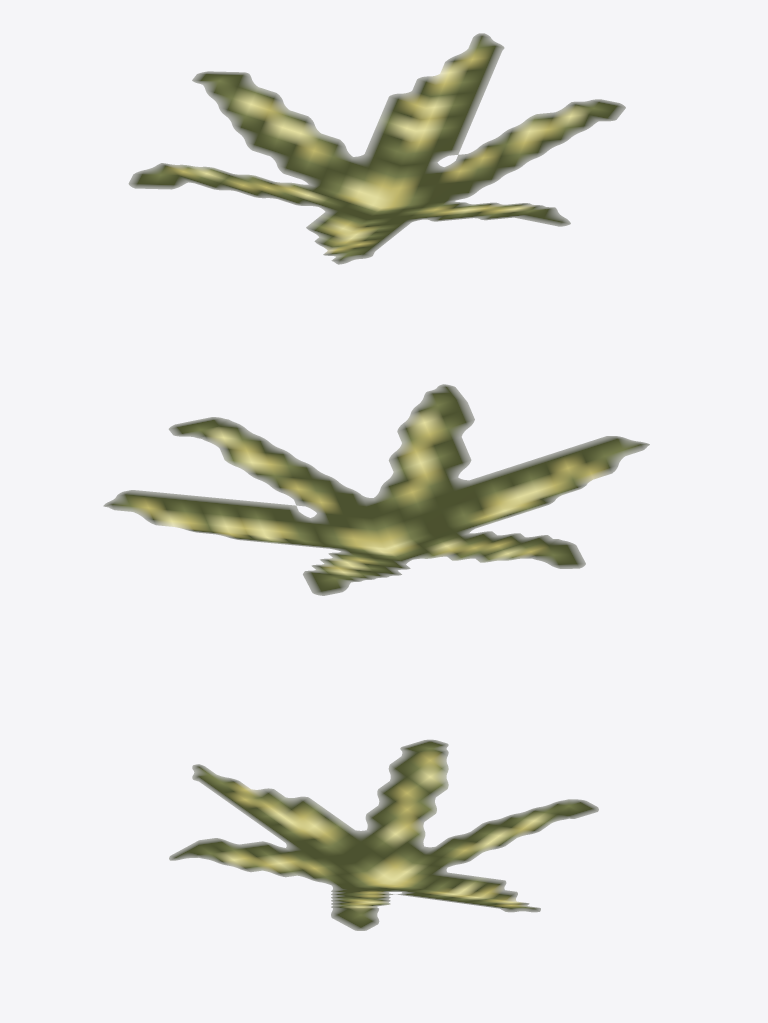
The model's file is plant_Desert.fbx.
3 renders of one model, top to bottom at view 1: azimuth 30°, elevation 25°; view 2: azimuth 150°, elevation 25°; view 3: azimuth 270°, elevation 25°, orthographic. The views are drawn at different scales.
Visible parts, largest first — view 1: plant_Desert; view 2: plant_Desert; view 3: plant_Desert.
Boxes of the visible parts, x1,y1,x2,y2 form: plant_Desert: (128,33,625,264); plant_Desert: (103,384,649,595); plant_Desert: (169,739,598,930).
Bounding box in the file's own units: 1.41 × 0.1116 × 1.41.
